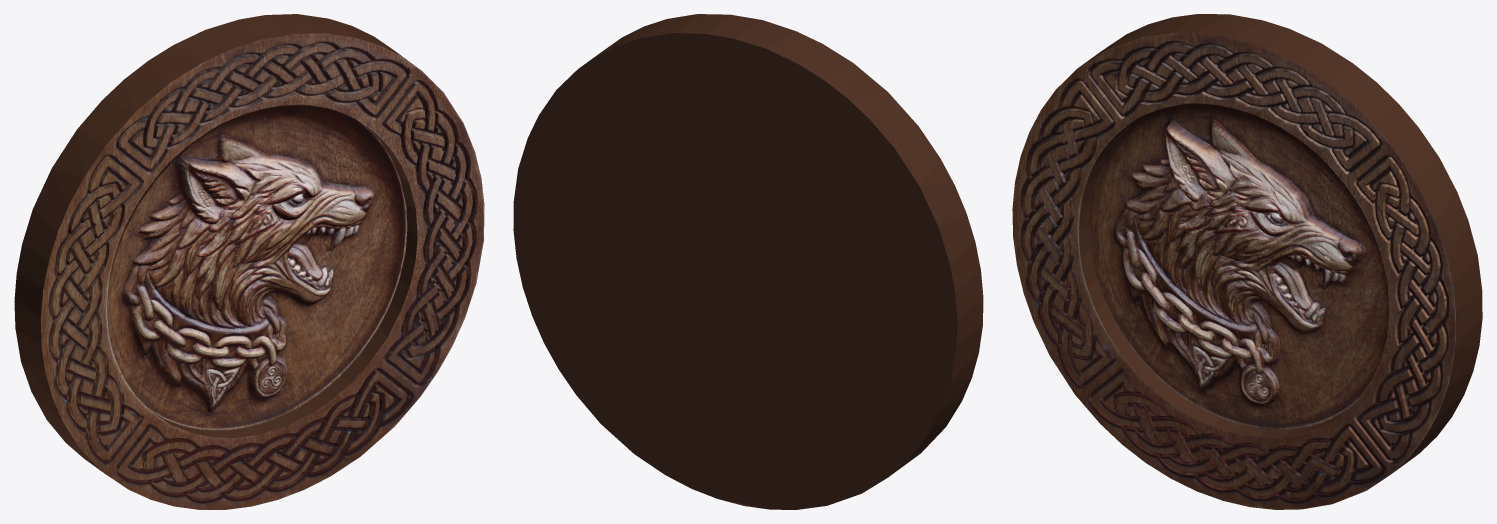
Rendered from wolf.glb.
3 views of the same model, side by side, from view 1: azimuth 30°, elevation 25°; view 2: azimuth 150°, elevation 25°; view 3: azimuth 330°, elevation 25° (orthographic).
Parts seen in each view (by area): view 1: wolf-web; view 2: wolf-web; view 3: wolf-web.
Part boxes in pixels (x1=…): wolf-web: x1=14, y1=14, x2=484, y2=509; wolf-web: x1=513, y1=14, x2=983, y2=509; wolf-web: x1=1012, y1=14, x2=1482, y2=509.
Bounding box in the file's own units: 215 × 215 × 22.02.
Materials: 2 (1 with a texture image).
